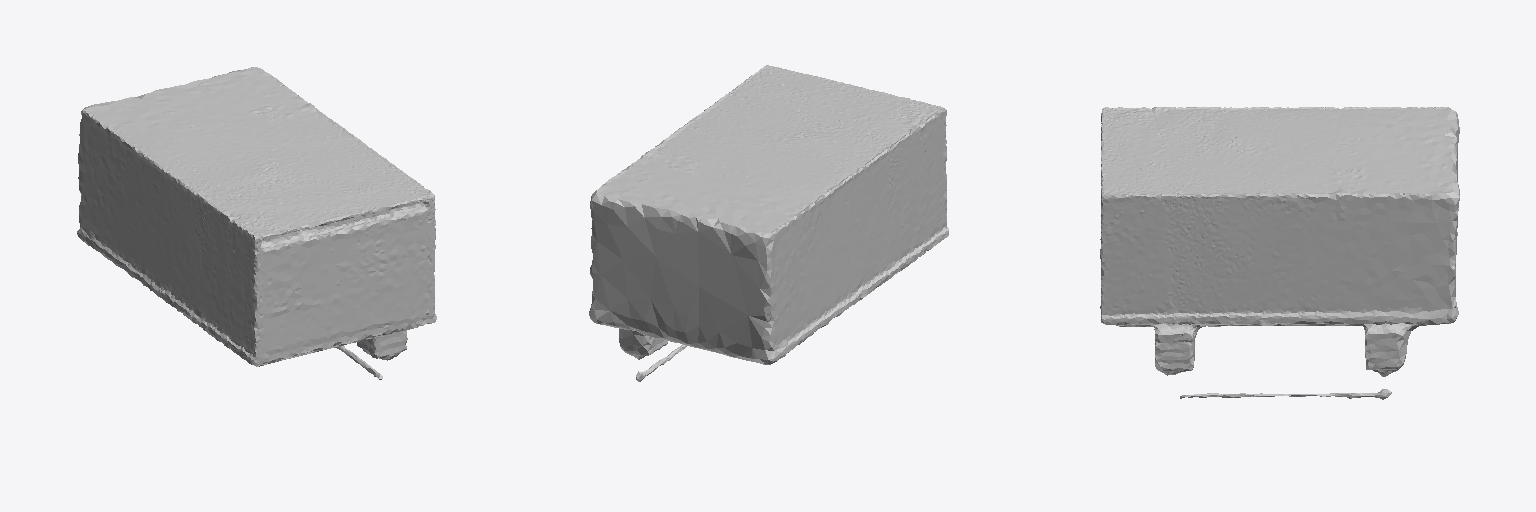
File: cabinet_closed.obj
3 views of the same model, side by side, from view 1: azimuth 30°, elevation 25°; view 2: azimuth 150°, elevation 25°; view 3: azimuth 270°, elevation 25° (orthographic).
Visible parts, largest first — view 1: cabinet_closed; view 2: cabinet_closed; view 3: cabinet_closed.
Boxes of the visible parts, box(x1,y1,x2,y2) form: cabinet_closed: box(77, 67, 436, 379); cabinet_closed: box(589, 65, 948, 381); cabinet_closed: box(1100, 107, 1459, 399).
Bounding box in the file's own units: 0.4559 × 0.4964 × 0.7624.